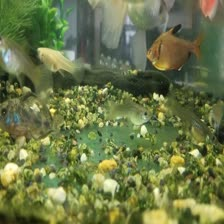Guppy: (0, 36, 62, 97), (163, 94, 216, 147), (34, 40, 95, 84), (99, 93, 152, 127)
Kiros: (1, 91, 65, 143)
Transparente: (140, 21, 203, 77)
